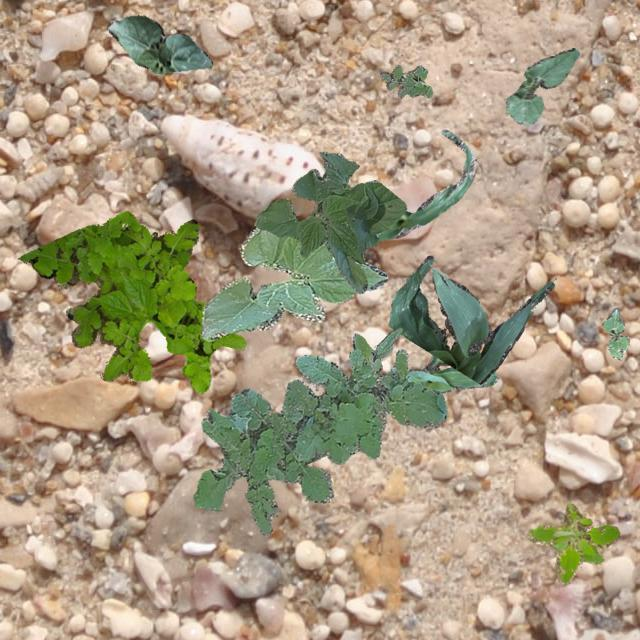crop: (254, 150, 406, 292), (200, 227, 386, 341), (388, 255, 554, 382), (376, 128, 476, 240), (106, 13, 212, 72), (504, 46, 578, 124), (406, 354, 498, 392), (600, 306, 628, 358)
weed: (192, 348, 444, 534), (18, 210, 244, 392), (526, 502, 618, 584), (350, 326, 400, 391), (378, 64, 432, 96), (346, 372, 356, 389)
